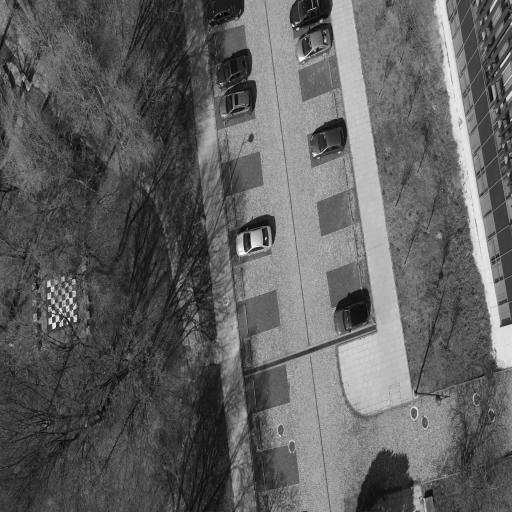person: (296, 24, 332, 64), (290, 0, 330, 30), (334, 301, 369, 335), (236, 226, 272, 256), (311, 128, 345, 159), (217, 56, 248, 88), (219, 90, 252, 120), (207, 0, 242, 25)
